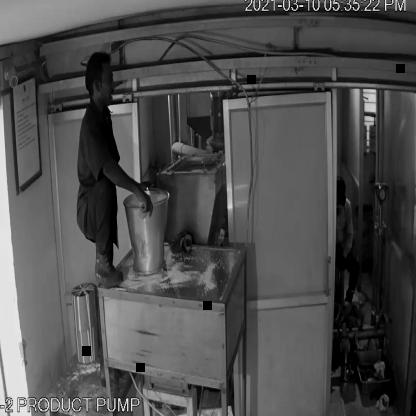no_glove: (94, 148, 160, 228)
